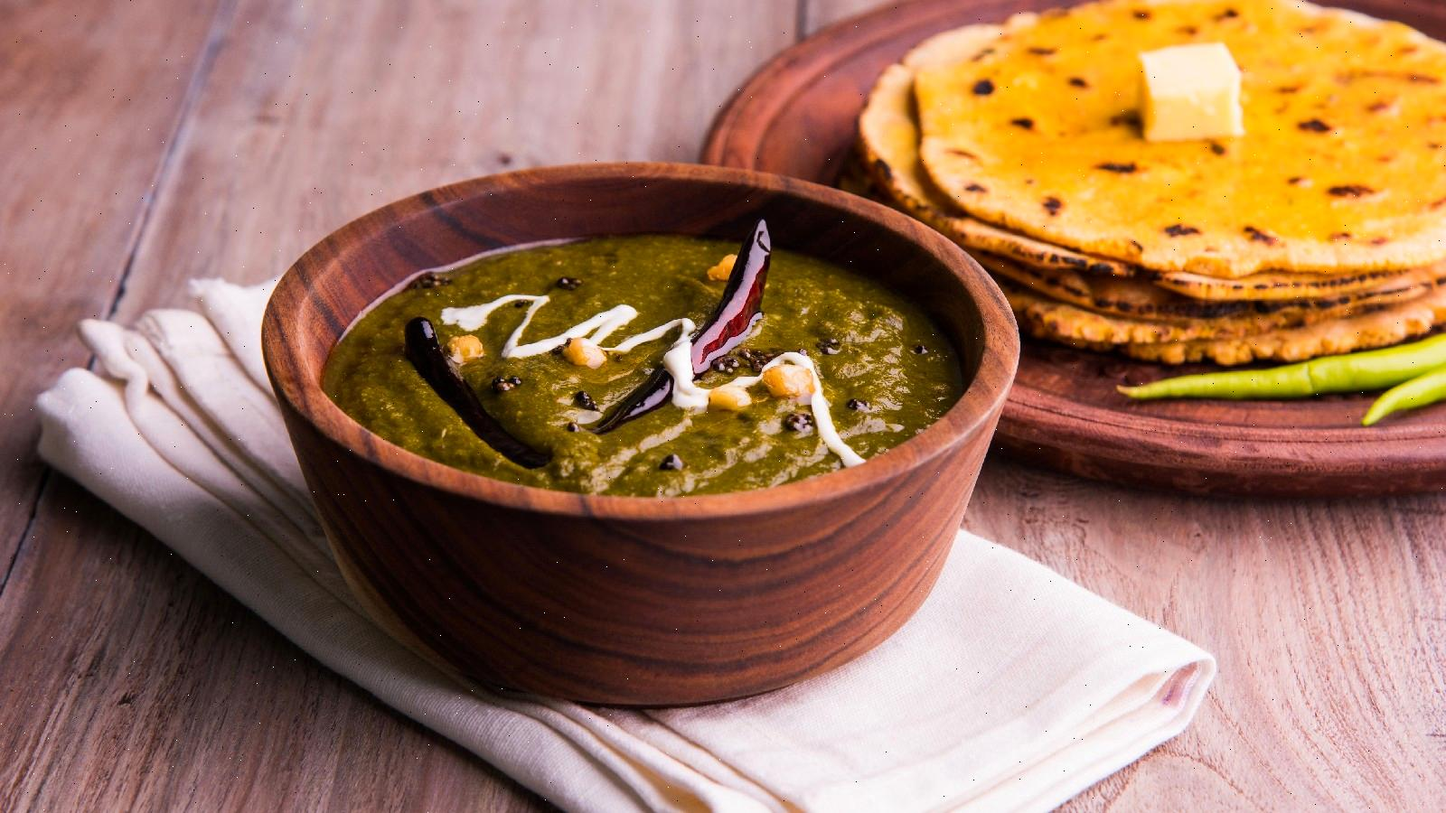saag: (316, 216, 964, 503)
